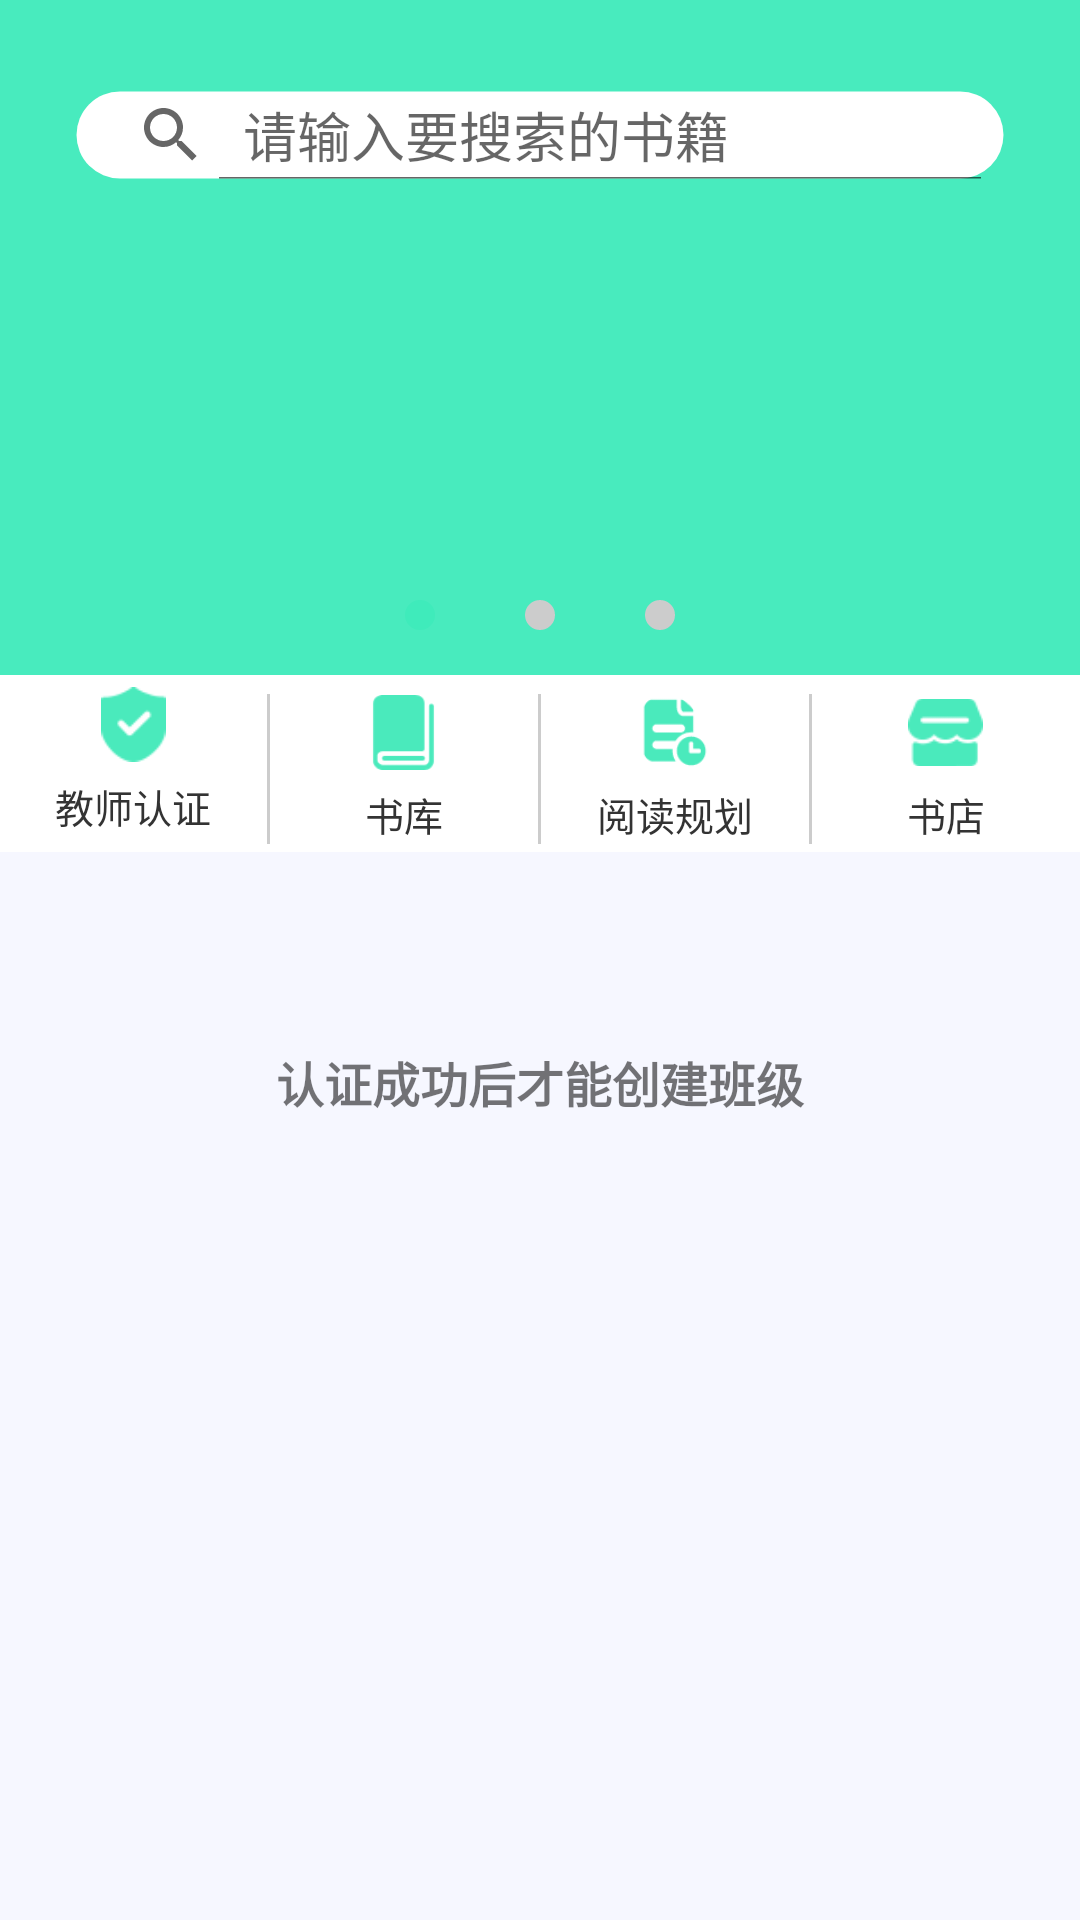

Where icons sit on this 1080w x 1920h app screen, as (x1, y1, x2, y2):
book stack: (373, 695, 434, 770)
